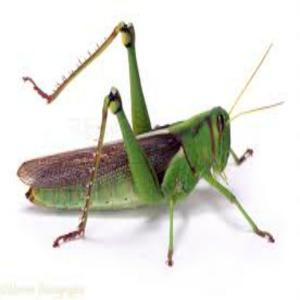locust: (25, 78, 242, 228)
